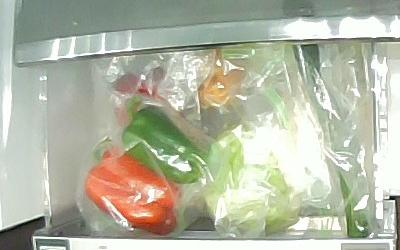cucumber_vinyl: (294, 44, 371, 238)
lettuce_vinyl: (202, 127, 303, 233)
paprika_vinyl: (85, 138, 179, 236), (117, 98, 207, 182)
peach_vinyl: (197, 56, 244, 109)
